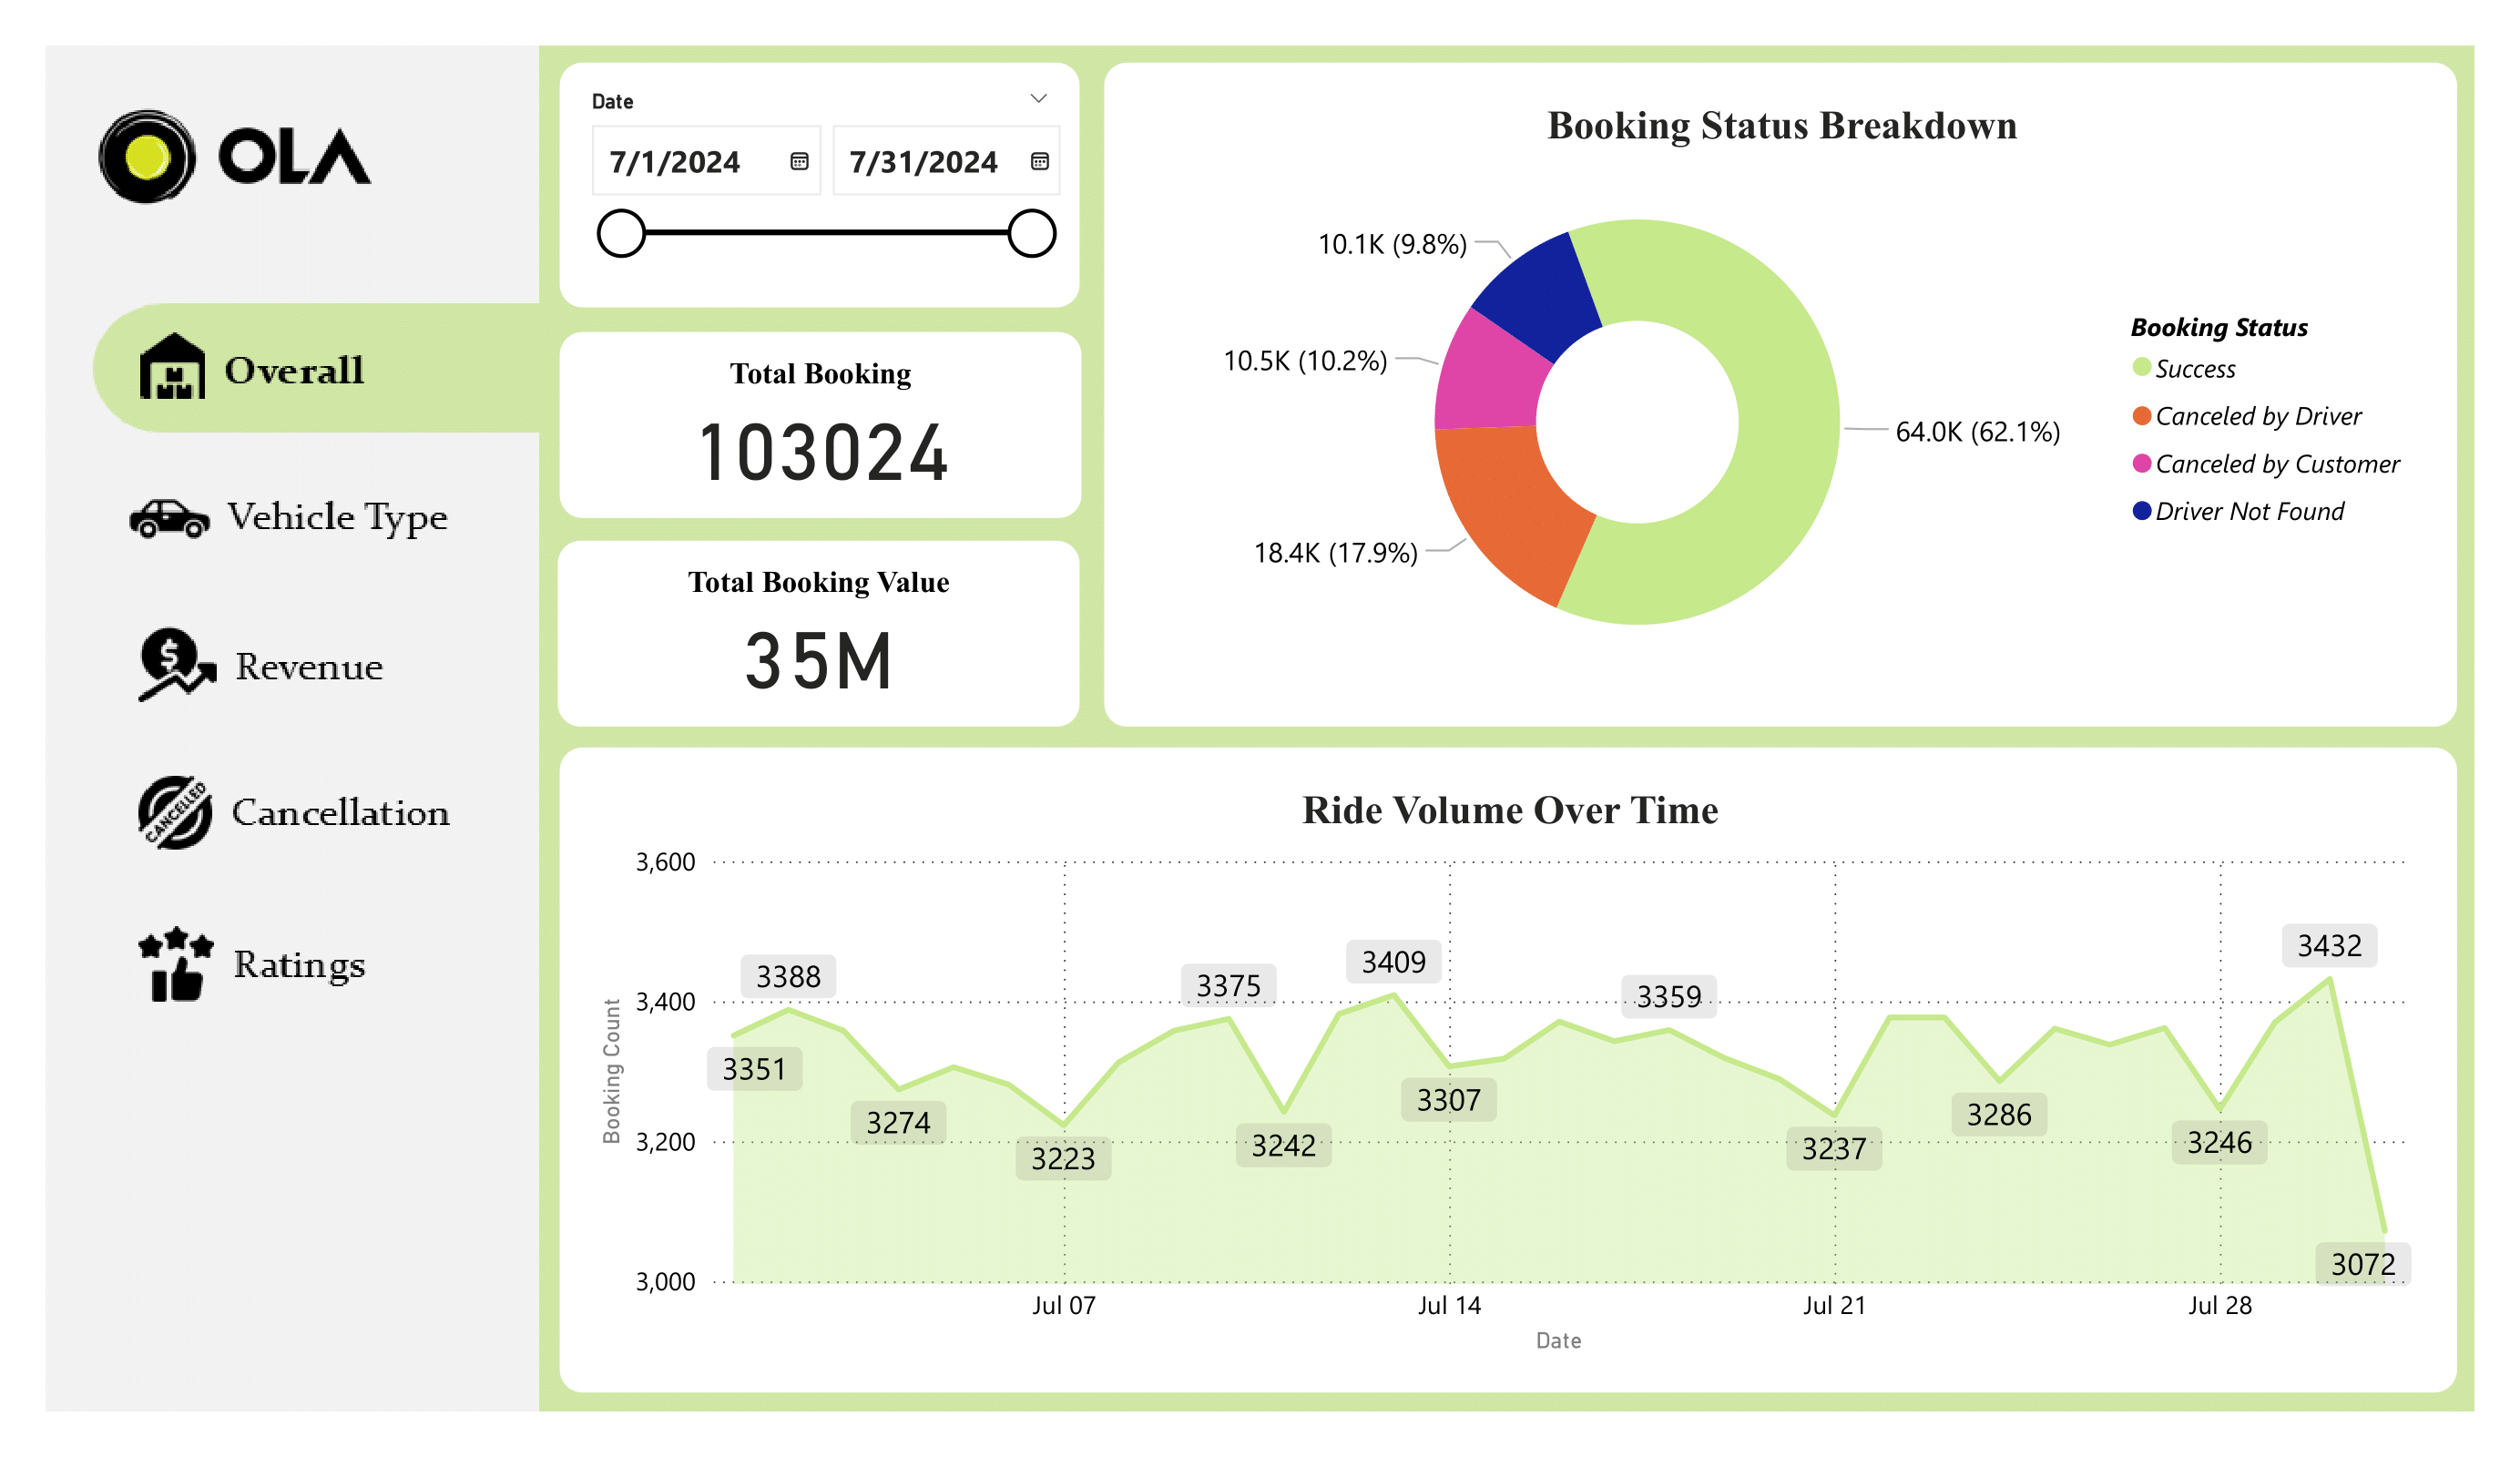

The page's visual inventory and layout, read from the dashboard file:
{"tool":"powerbi","page":{"name":"Overall","canvas":[1280,720],"ordinal":0},"visuals":[{"type":"actionButton","box":[25,212.5,237.5,72.5],"z":0},{"type":"actionButton","box":[22.5,290,237.5,72.5],"z":1000},{"type":"actionButton","box":[23.8,370,237.5,72.5],"z":2000},{"type":"actionButton","box":[23.8,448.8,237.5,72.5],"z":3000},{"type":"lineChart","title":"Ride Volume Over Time","fields":{"Y":["CountNonNull(Bookings-100000-Rows.Booking_ID)"],"Category":["Bookings-100000-Rows.Date"]},"box":[271,369.6,1000,340.6],"z":4000},{"type":"donutChart","title":"Booking Status Breakdown","fields":{"Category":["Bookings-100000-Rows.Booking_Status"],"Y":["CountNonNull(Bookings-100000-Rows.Booking_Status)"]},"box":[558,8.7,713,350.7],"z":5000},{"type":"slicer","title":"Date","fields":{"Values":["Bookings-100000-Rows.Date"]},"box":[271,8.7,273.9,129],"z":6000},{"type":"cardVisual","title":"Total Booking","fields":{"Data":["Count(Bookings-100000-Rows.Booking_ID)"]},"box":[271,150.7,275.4,98.6],"z":7000},{"type":"cardVisual","title":"Total Booking","fields":{"Data":["Sum(Bookings-100000-Rows.Booking_Value)"]},"box":[269.6,260.9,275.4,98.6],"z":8000}]}

Visuals, with their boxes in screenshot pixels (x1, y1, x2, y2):
actionButton: BBox(93, 449, 544, 586)
actionButton: BBox(88, 596, 539, 733)
actionButton: BBox(91, 748, 541, 885)
actionButton: BBox(91, 897, 541, 1034)
"Ride Volume Over Time" lineChart: BBox(560, 747, 2457, 1393)
"Booking Status Breakdown" donutChart: BBox(1105, 62, 2457, 728)
"Date" slicer: BBox(560, 62, 1079, 307)
"Total Booking" cardVisual: BBox(560, 331, 1082, 518)
"Total Booking" cardVisual: BBox(557, 541, 1080, 728)
